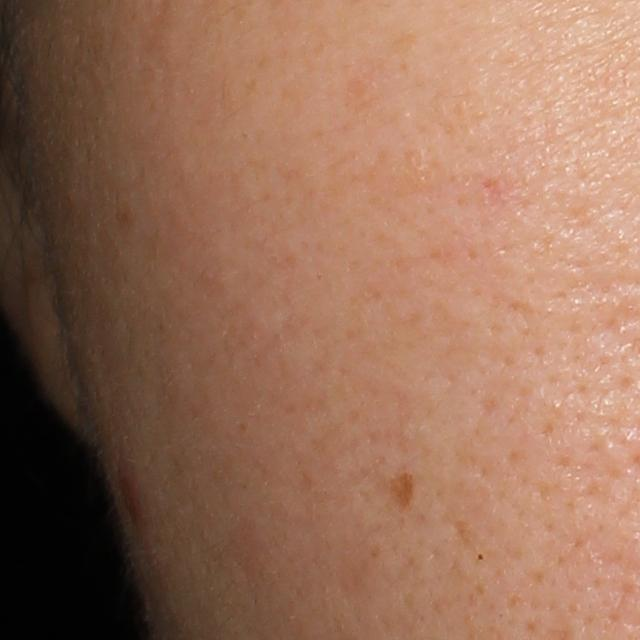papule: (112, 461, 156, 524)
